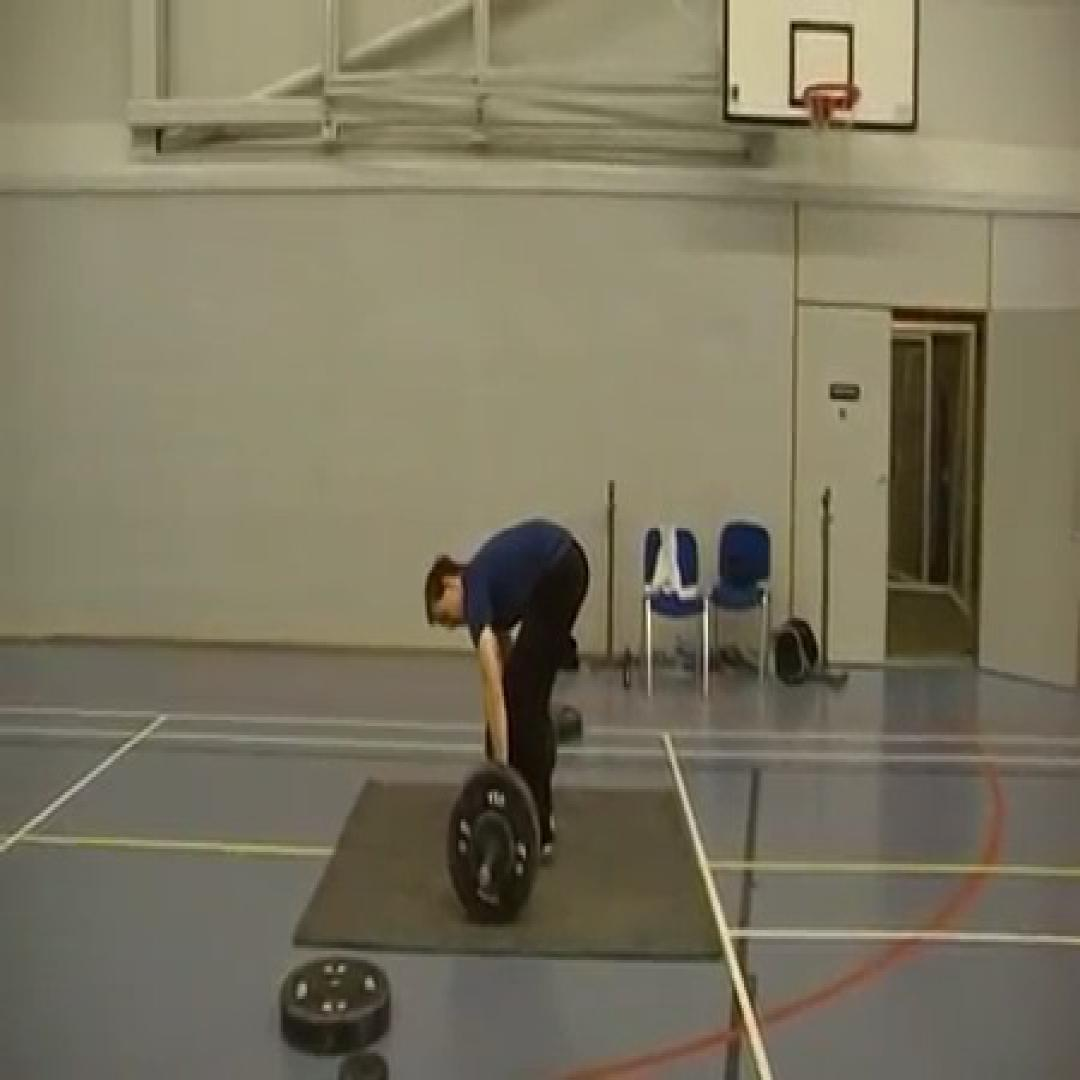Bar: (475, 864, 492, 891)
Barbell: (446, 765, 540, 924)
